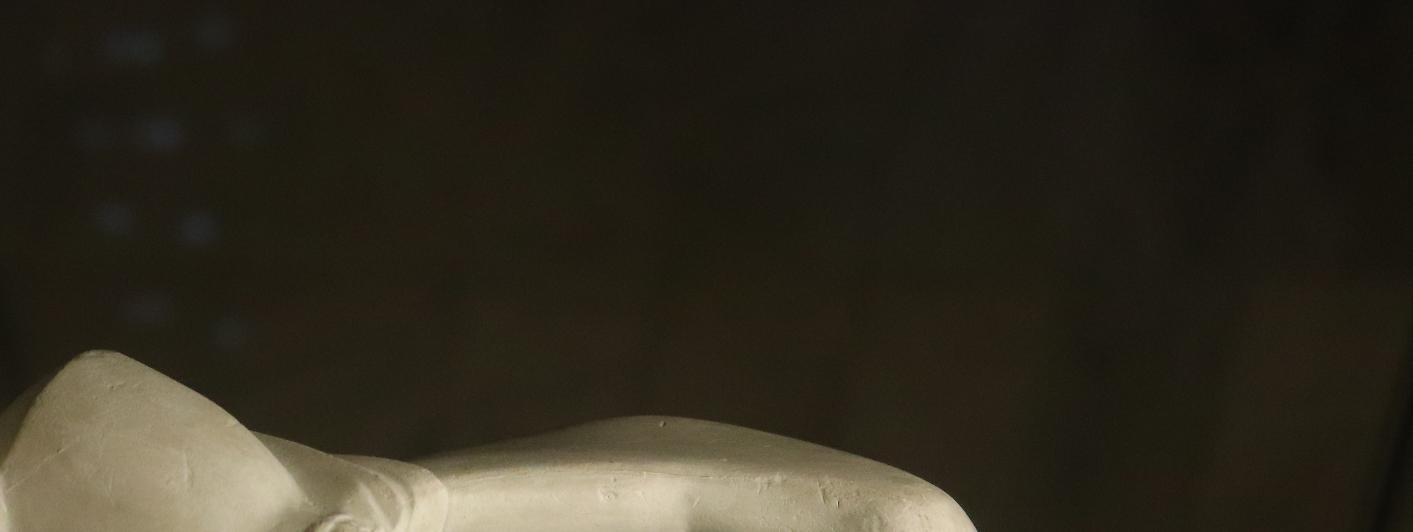the_female_peasent: (0, 157, 597, 532)
